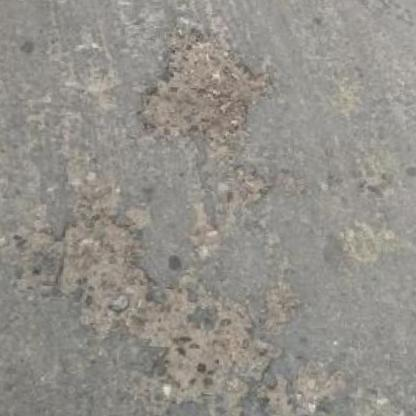pothole: (146, 273, 284, 411), (136, 25, 284, 153), (48, 206, 159, 338)
